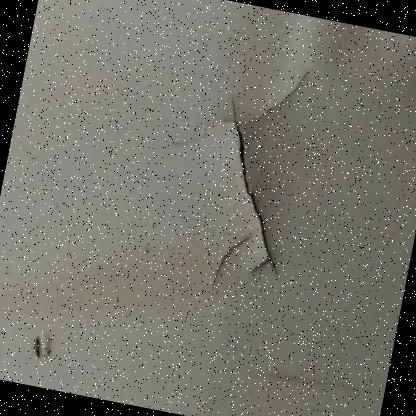Crack: (135, 35, 342, 323), (0, 312, 75, 386)
